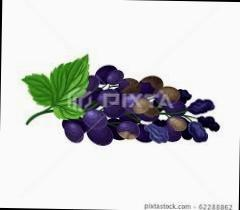Grape Rotten: (61, 63, 220, 148)
